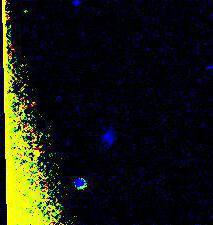star: (9, 0, 39, 27)
